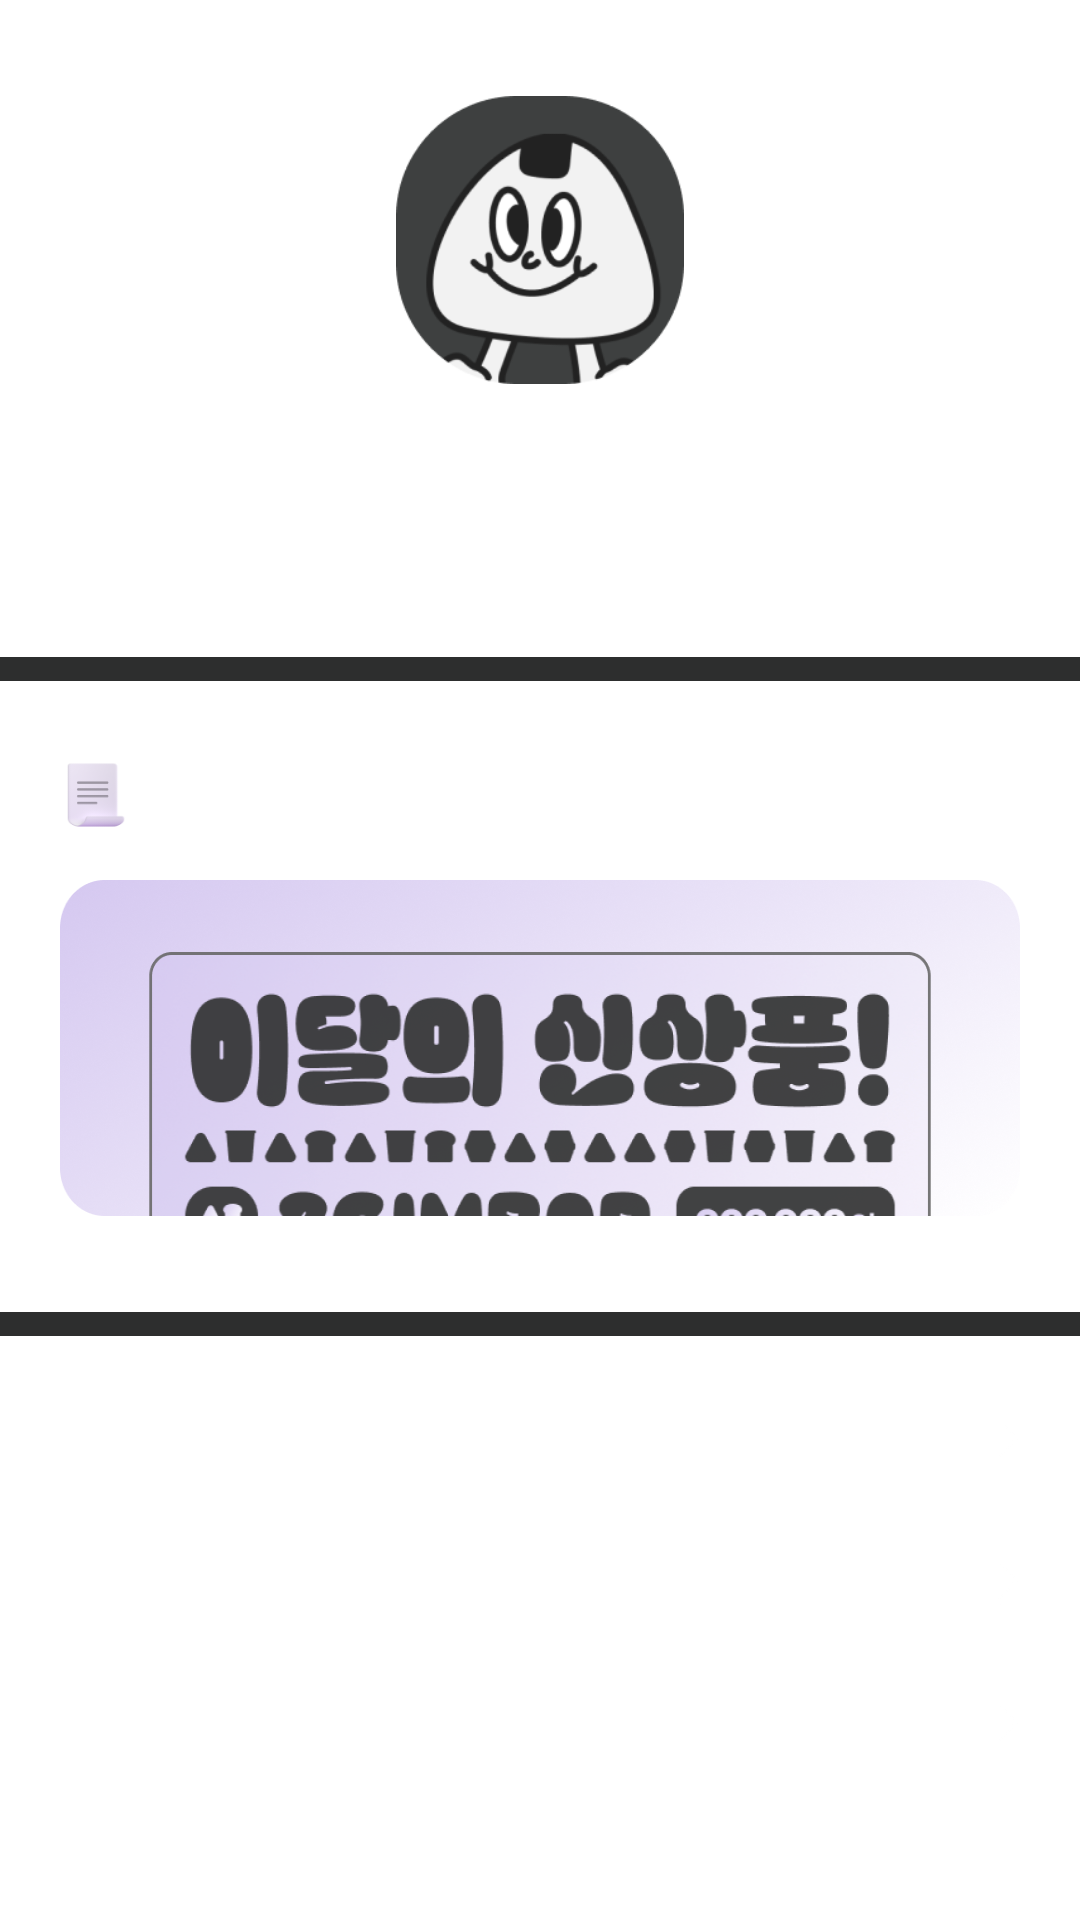

Icon bounding boxes for this 1080px x 1920px phone screenshot, format (x1, y1, x2, y2):
imoji: (396, 96, 684, 384)
paper: (68, 764, 124, 827)
